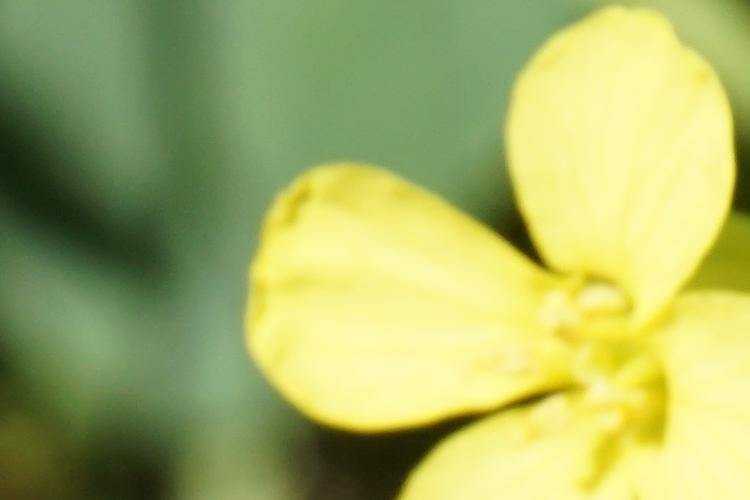yellow: (248, 38, 747, 500)
